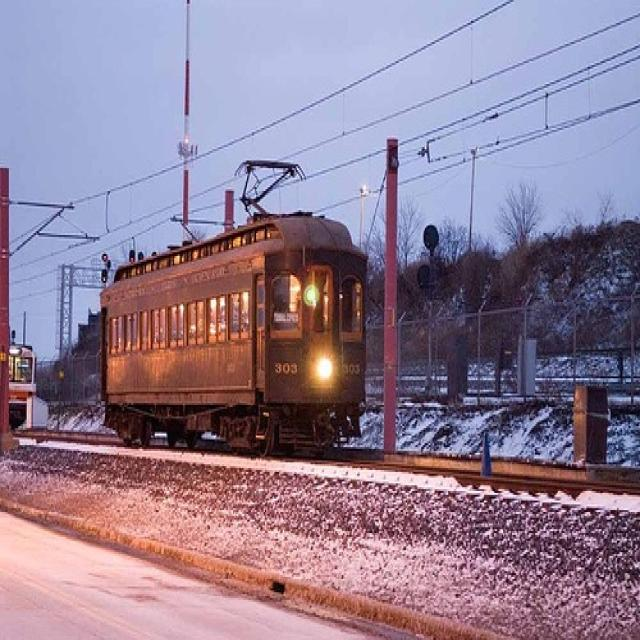train: (102, 160, 368, 454), (9, 340, 35, 426)
